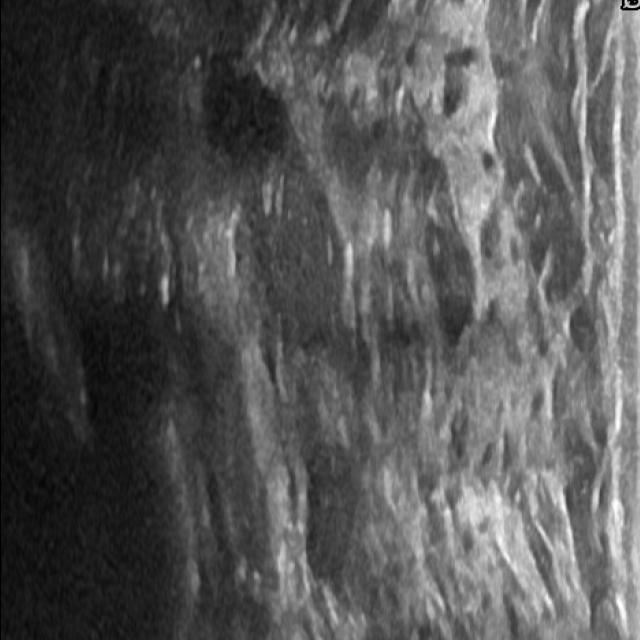Normal: (32, 24, 621, 598)
